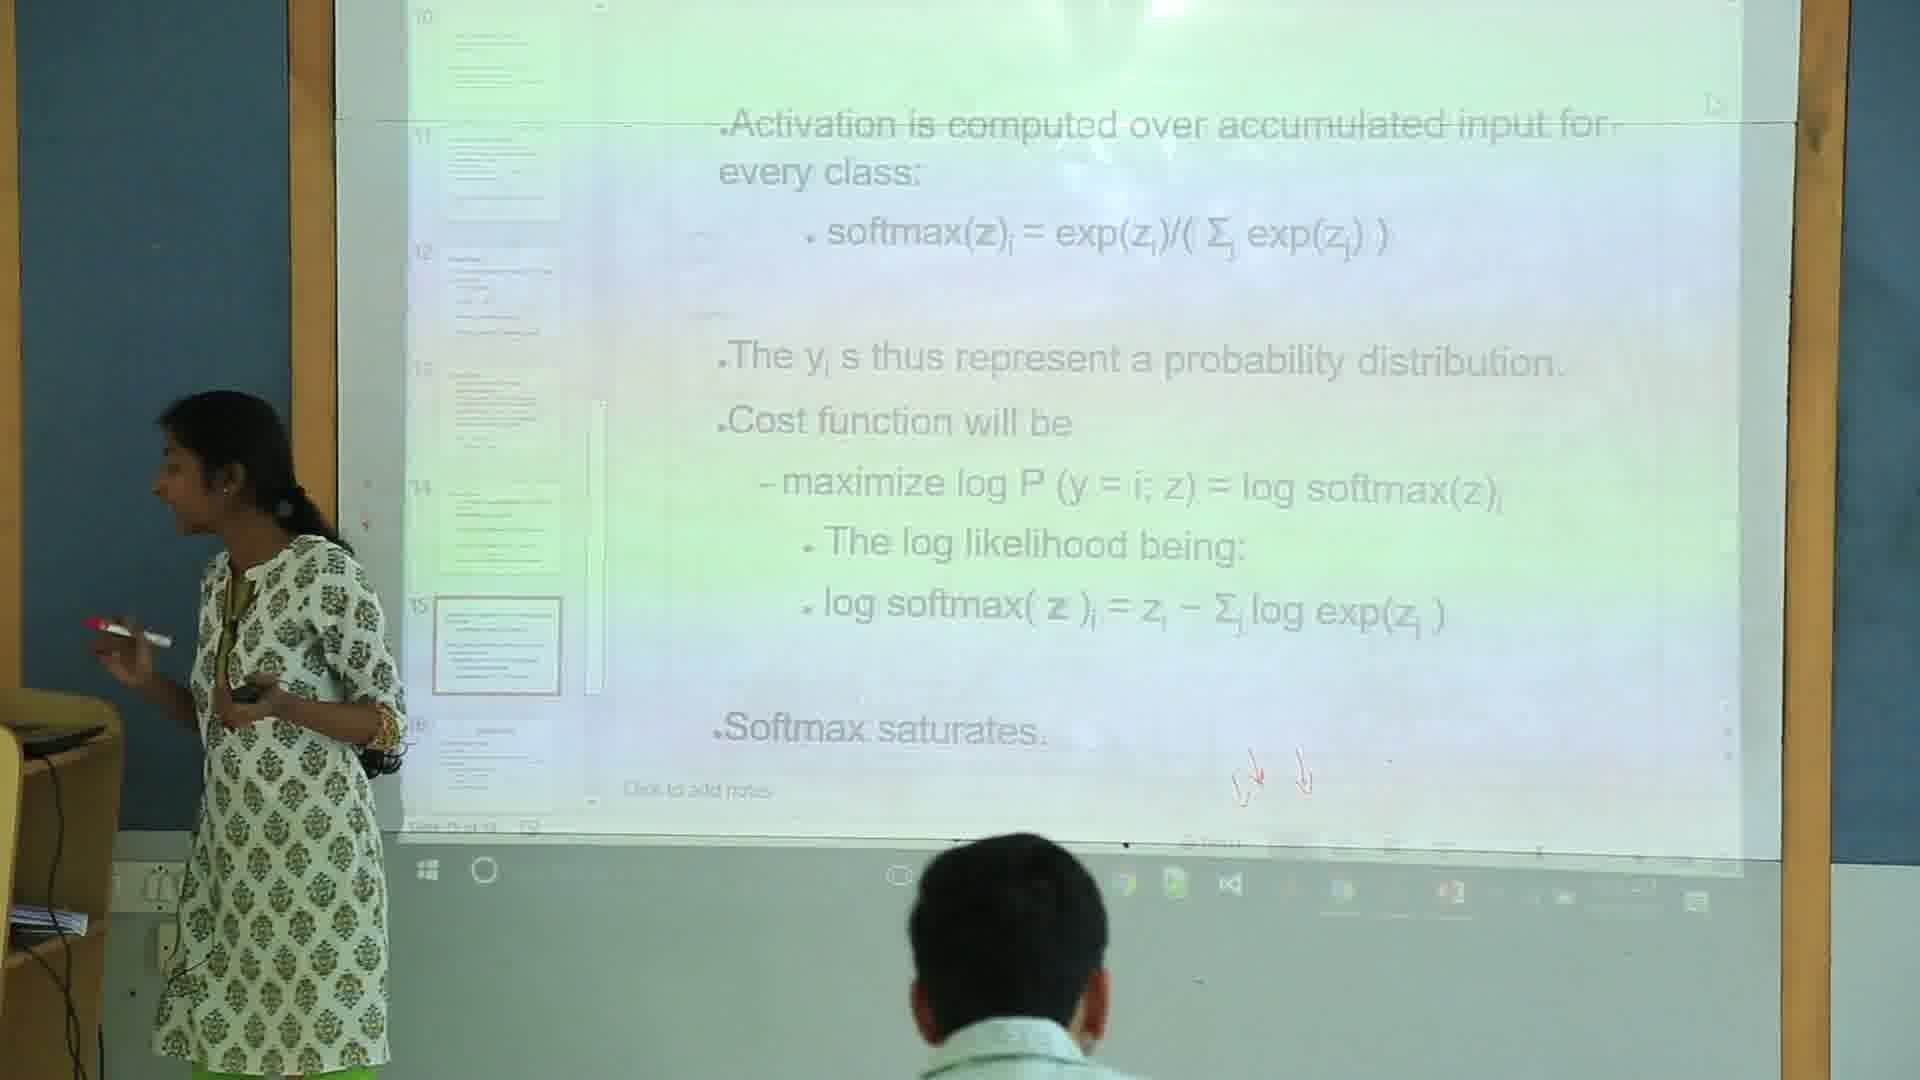eq: (819, 576, 1455, 645), (823, 207, 1396, 272)
